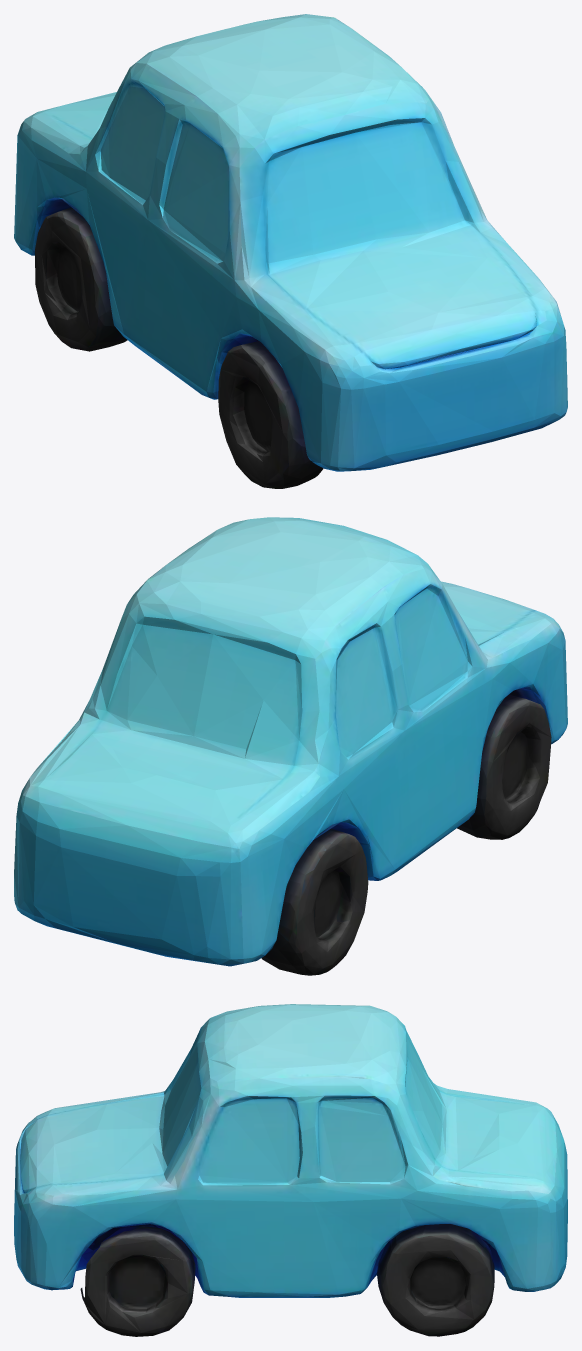
File: car-sedan.glb
The picture shows the model from 3 angles, top to bottom: view 1: azimuth 30°, elevation 25°; view 2: azimuth 150°, elevation 25°; view 3: azimuth 270°, elevation 25°; orthographic projection. The views are drawn at different scales.
Visible parts, largest first — view 1: geometry_0; view 2: geometry_0; view 3: geometry_0.
Part boxes in pixels (x1,y1,x2,y2): geometry_0: (14,14,567,488); geometry_0: (14,517,567,975); geometry_0: (14,1004,567,1336).
Bounding box in the file's own units: 0.4589 × 0.5082 × 0.9991.
1 material, 1 textured.
